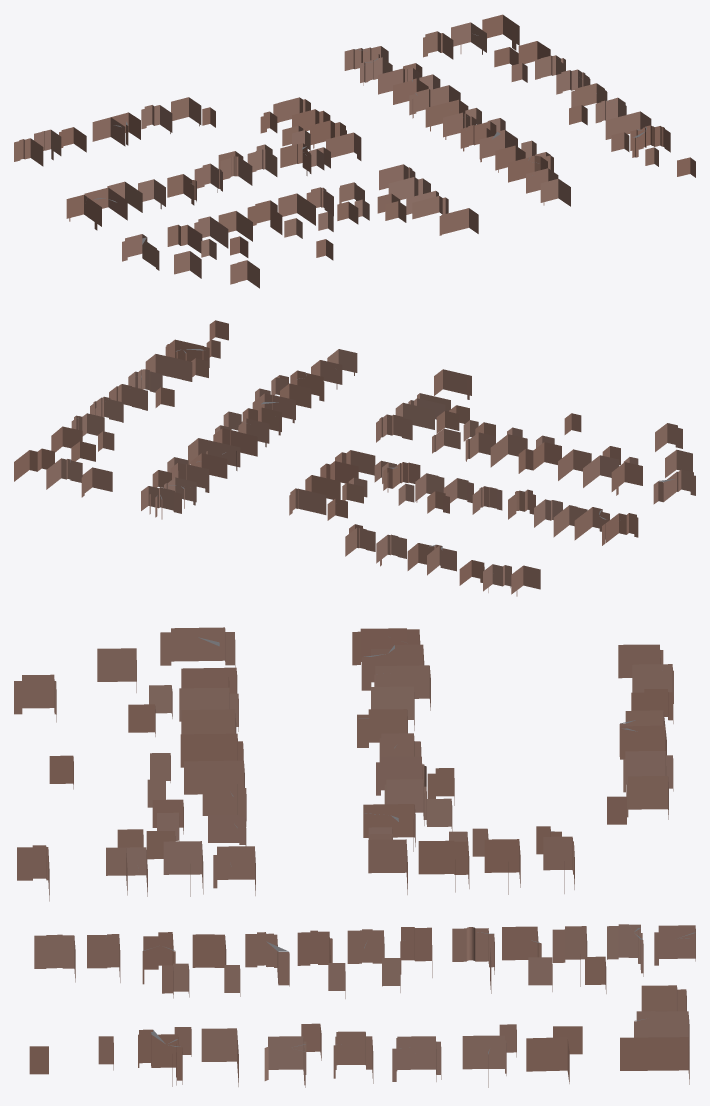
Rendered from c_1641_17822_buildings_residential.glb.
3 views of the same model, one above another, from view 1: azimuth 30°, elevation 25°; view 2: azimuth 150°, elevation 25°; view 3: azimuth 270°, elevation 25° (orthographic). The views are drawn at different scales.
Visible parts, largest first — view 1: geometry_0; view 2: geometry_0; view 3: geometry_0.
Boxes of the visible parts, x1,y1,x2,y2 form: geometry_0: [14, 14, 695, 288]; geometry_0: [14, 320, 695, 596]; geometry_0: [14, 627, 695, 1087].
Size of the model in its own units: 263 by 9.58 by 176.
